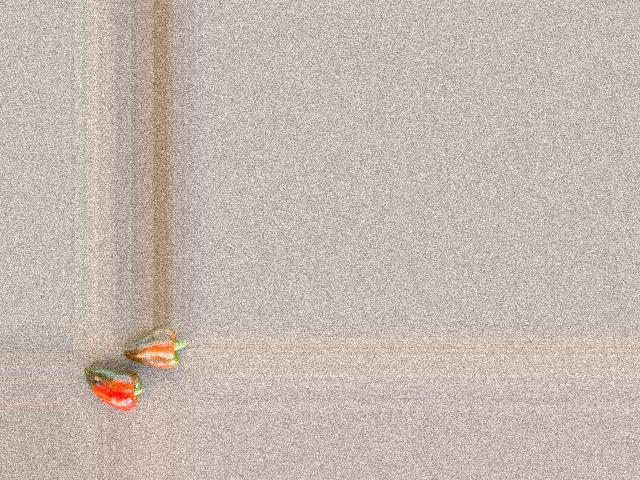bell_pepper: (81, 364, 163, 412)
